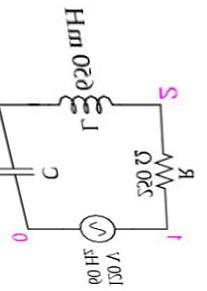inductor: (48, 84, 123, 120)
